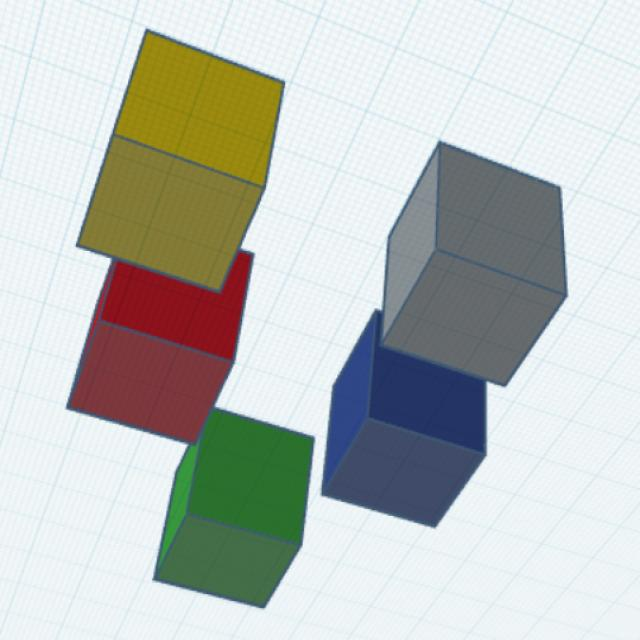cube: (70, 26, 289, 296), (378, 136, 571, 392), (150, 404, 318, 612)
